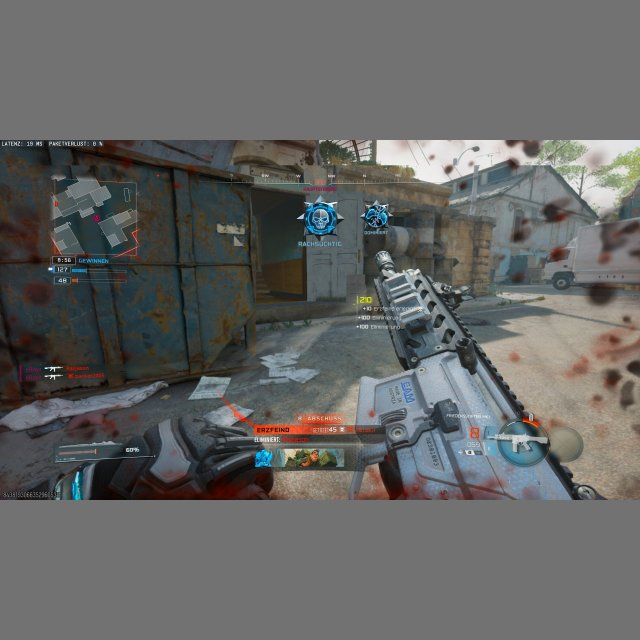player: (363, 200, 388, 232)
